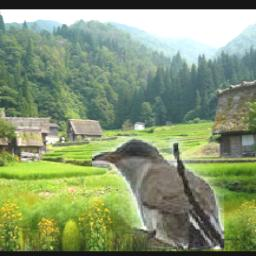Cuckoo: (92, 136, 224, 249)
